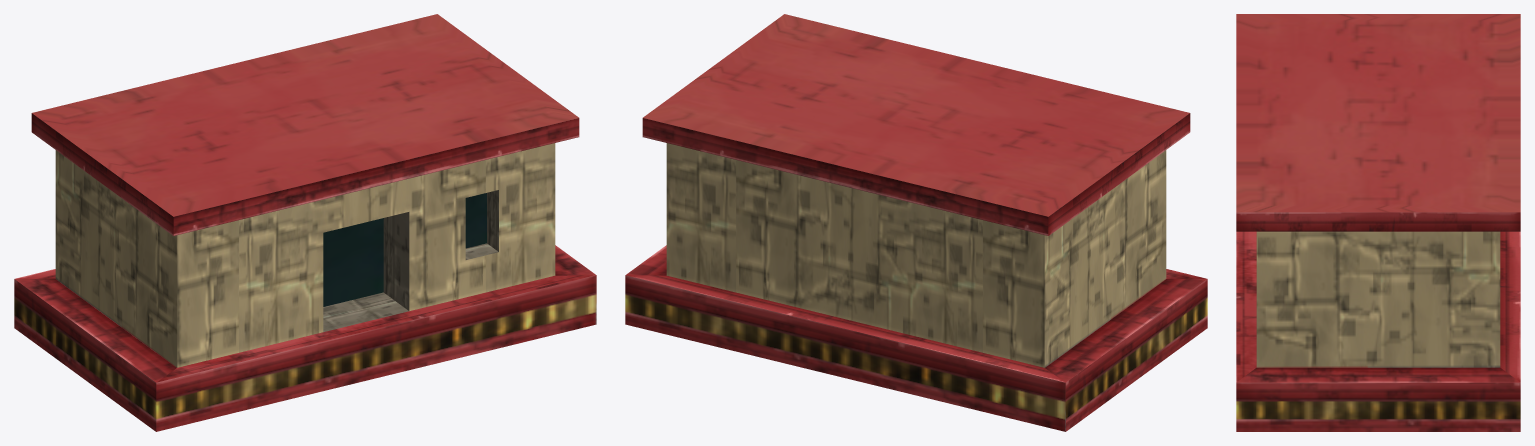
Rendered from AztecBarrack1.FBX.
The picture shows the model from 3 angles, left to right: view 1: azimuth 30°, elevation 25°; view 2: azimuth 150°, elevation 25°; view 3: azimuth 270°, elevation 25°; orthographic projection.
Visible parts, largest first — view 1: Box001; view 2: Box001; view 3: Box001.
Boxes of the visible parts, x1=… form: Box001: x1=14, y1=14, x2=596, y2=431; Box001: x1=625, y1=14, x2=1207, y2=431; Box001: x1=1236, y1=14, x2=1520, y2=431.
Bounding box in the file's own units: 1.29 × 0.5888 × 0.7178.
Materials: 1 (1 with a texture image).
